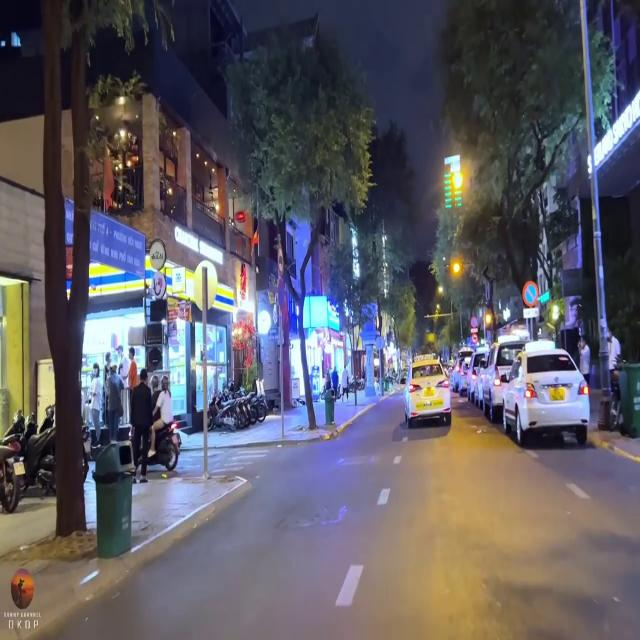bien_vang: (548, 385, 566, 404), (421, 389, 436, 398)
